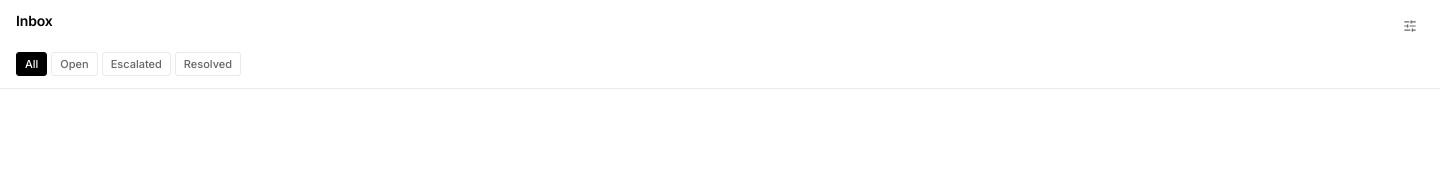
Test: InboxFilters (collapse behavior) › clicking the toggle a second time collapses the panel and hides the search input
Step 1. Click the button named "show filters" → (1410, 26), box x1=1396 y1=12 x2=1424 y2=40
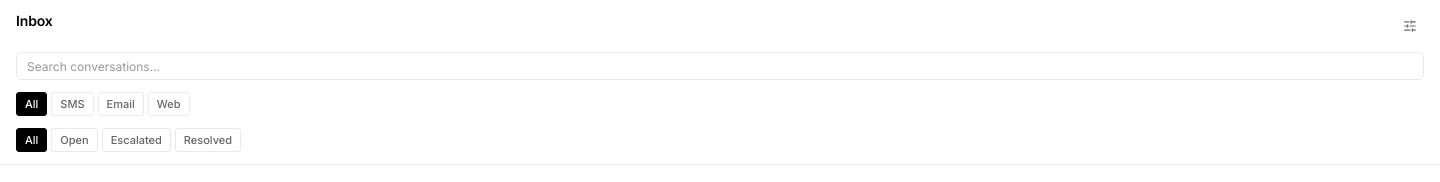
Step 2. Click the button named "show filters" → (1410, 26), box x1=1396 y1=12 x2=1424 y2=40
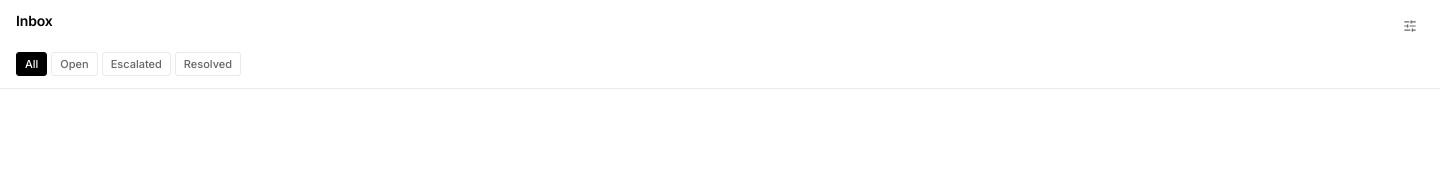
Expected: the field with placeholder "search conversations" is not shown
Expected: the element with id "inbox-filters-panel" is gone
